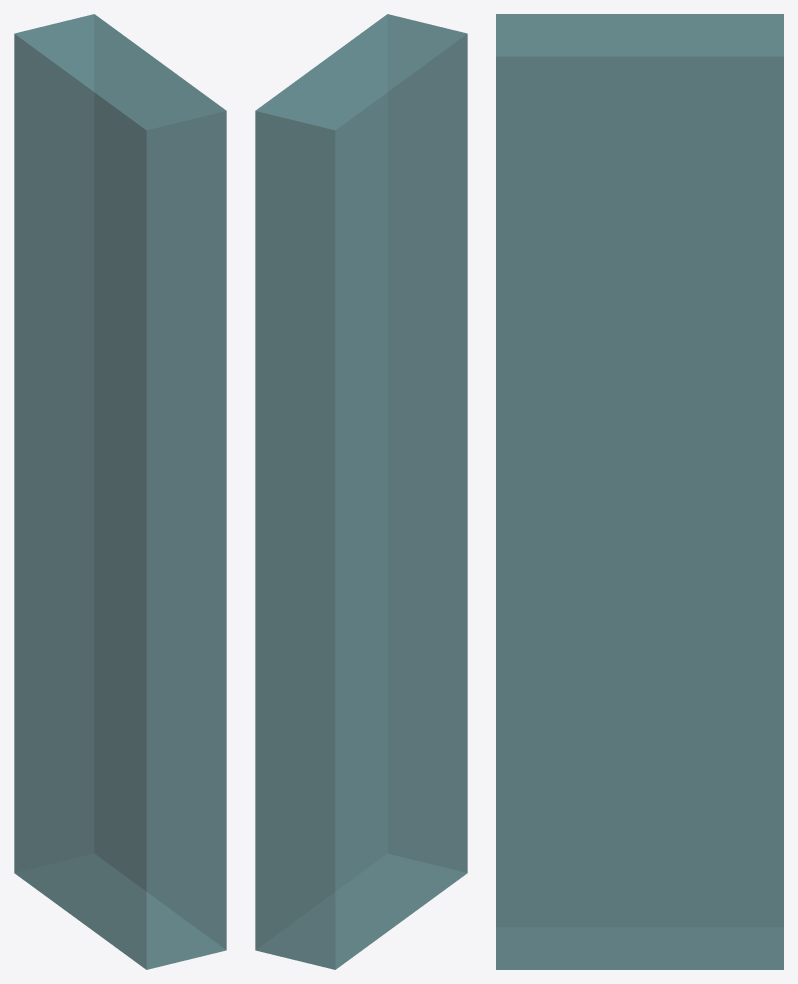
3 views of the same model, side by side, from view 1: azimuth 30°, elevation 25°; view 2: azimuth 150°, elevation 25°; view 3: azimuth 270°, elevation 25° (orthographic). The views are drawn at different scales.
Parts seen in each view (by area): view 1: B-GF-CDE; view 2: B-GF-CDE; view 3: B-GF-CDE.
Boxes of the visible parts, <box> form: B-GF-CDE: <box>14,14,226,969</box>; B-GF-CDE: <box>255,14,467,969</box>; B-GF-CDE: <box>496,14,783,969</box>.
Size of the model in its own units: 0.21 by 2.1 by 0.6.
